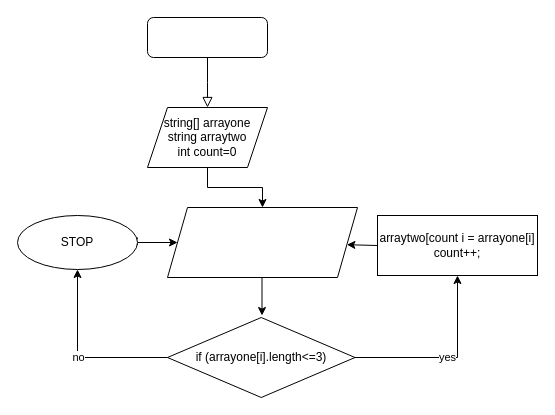
This 555x415 diagram has some shape labels left out. Each missing label, with the box of its shape:
ArrayWith: (146, 16, 268, 58)
for (int i=0; i<arrayone.lenght; i++): (166, 206, 358, 278)
